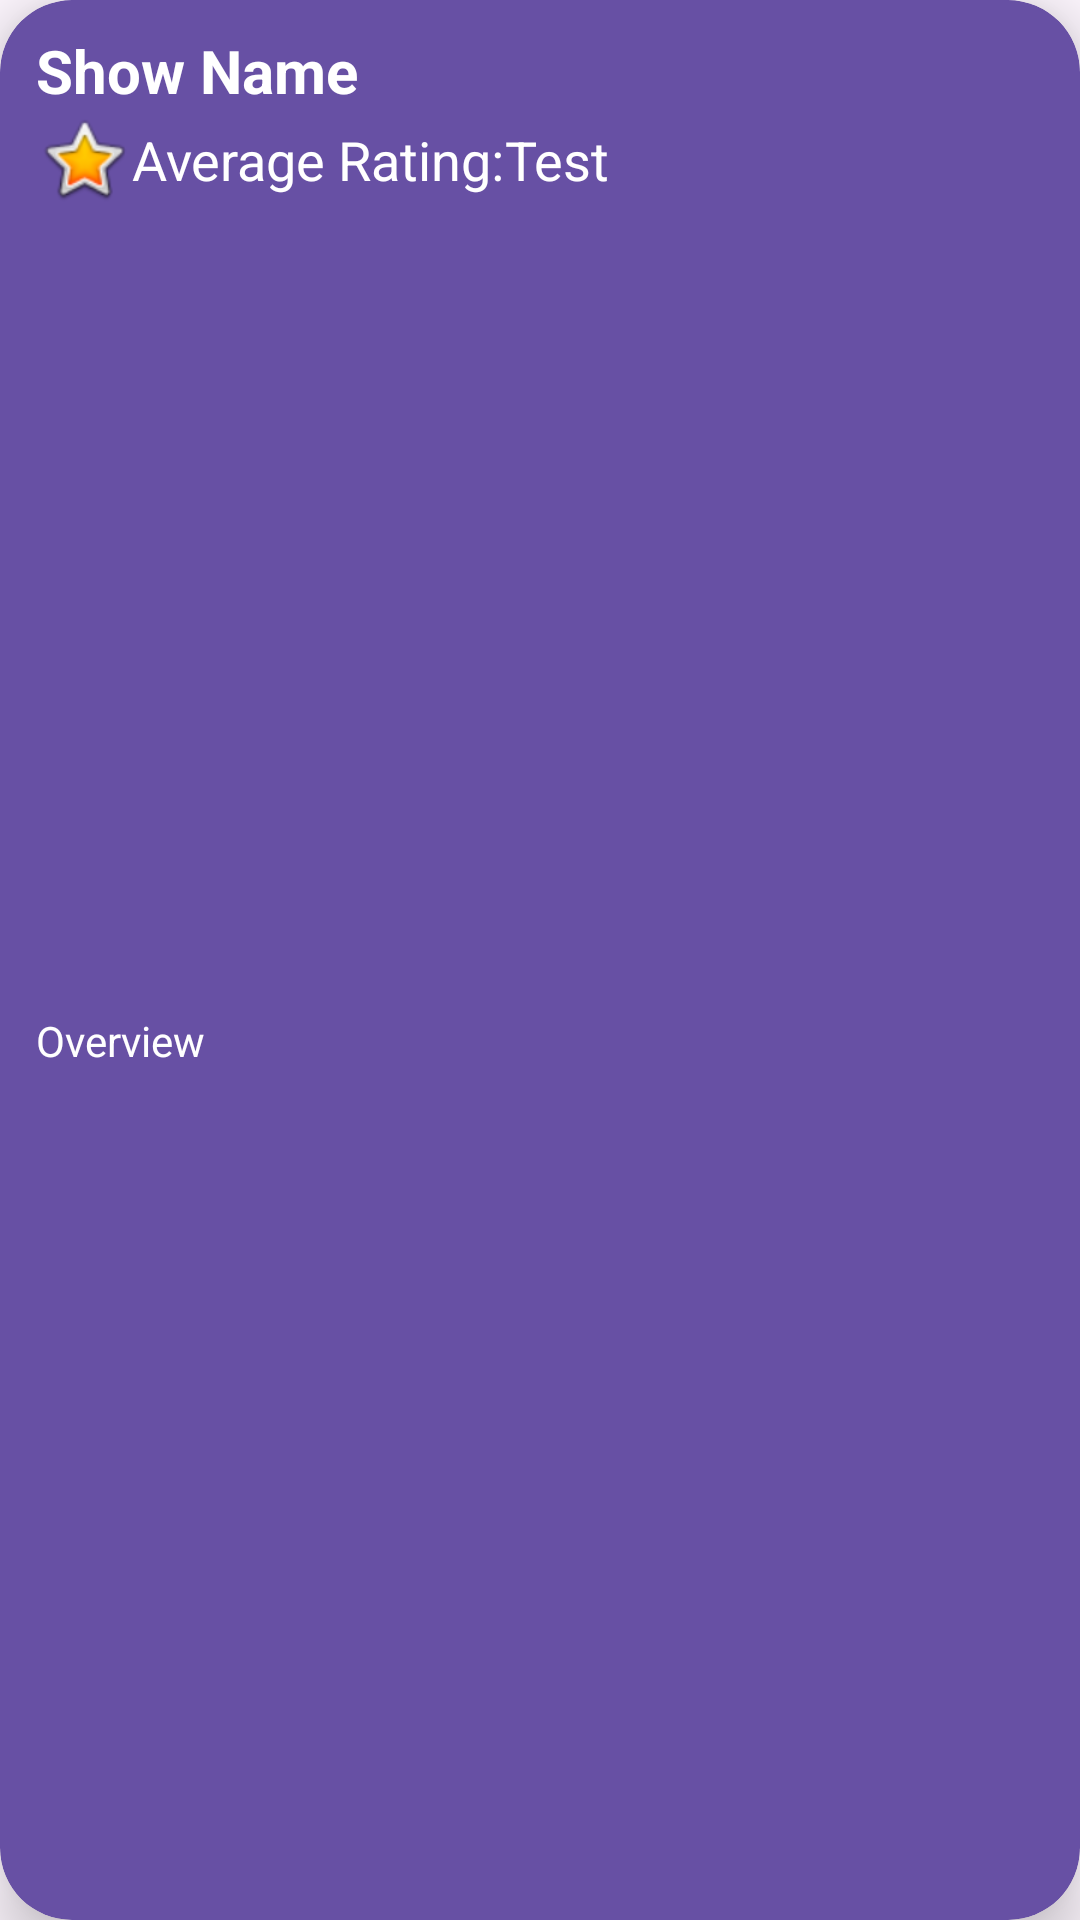

Locate icon controls on the screen. Image size 1080*1920, boxes as (x1, y1, x2, y2).
star on: (45, 123, 125, 198)
